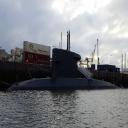submarine: (8, 30, 125, 91)
